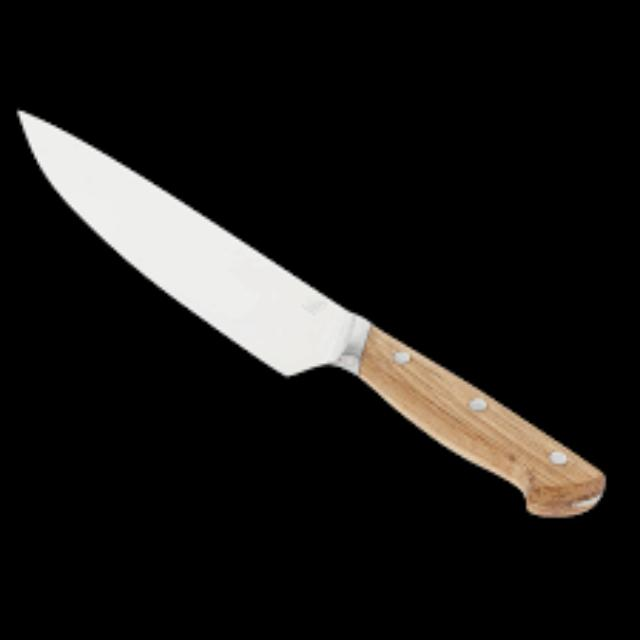Knife: (14, 105, 606, 517)
